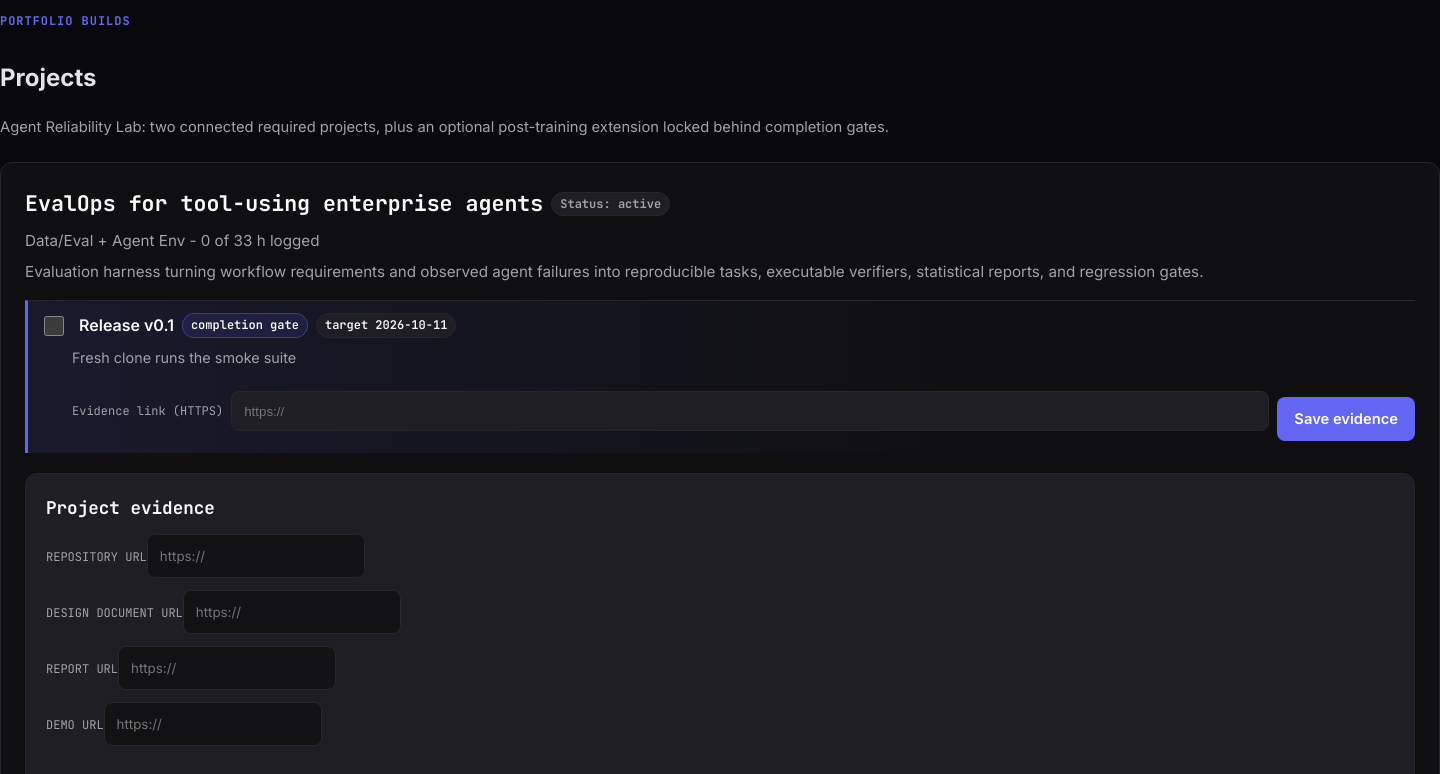
Test case: ProjectsView › surfaces save failures instead of failing silently
Type "https://github.com/example/repo" into the field labelled "Repository URL" at x=256, y=556, box [147,534,365,578]
(page scrolled)
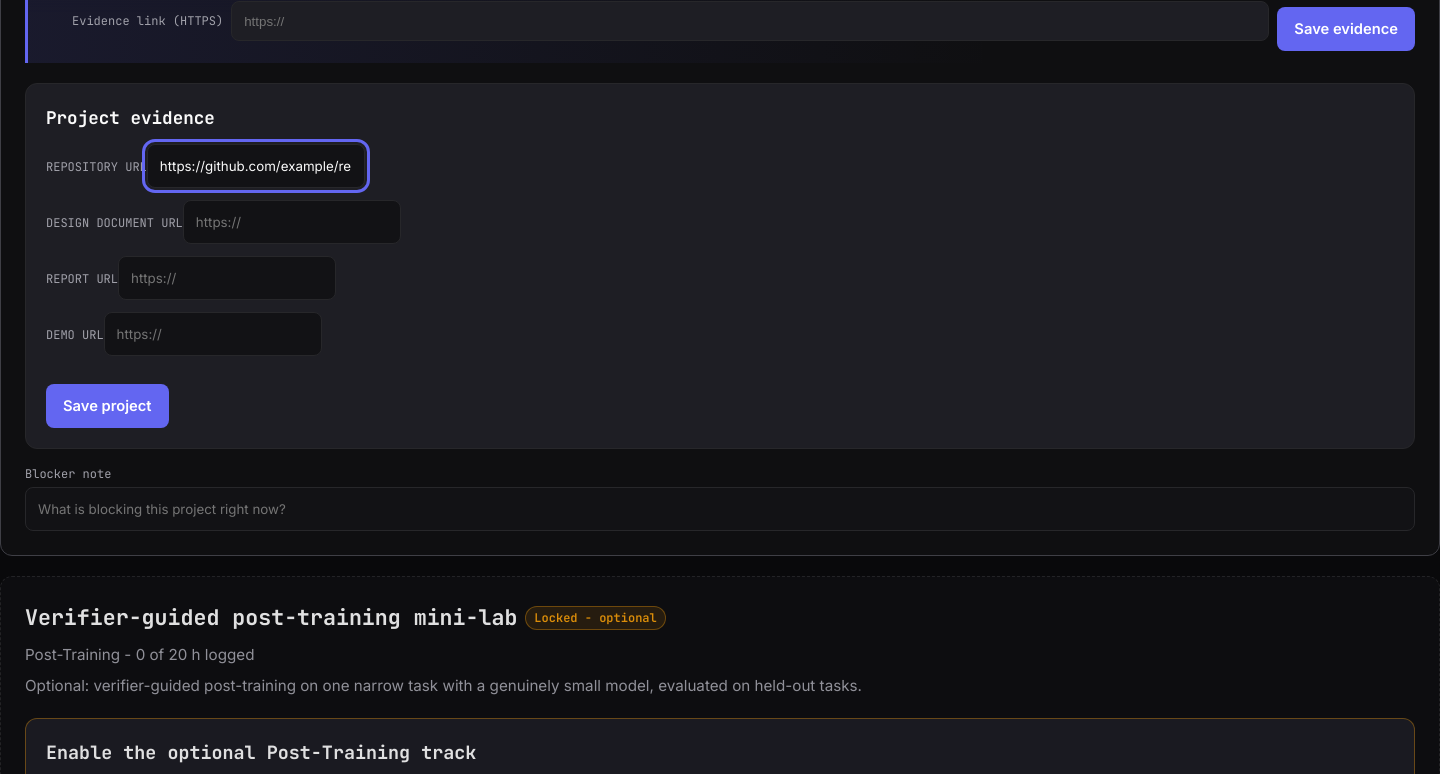
Click the button "Save project" at x=107, y=406, box [46,384,169,428]
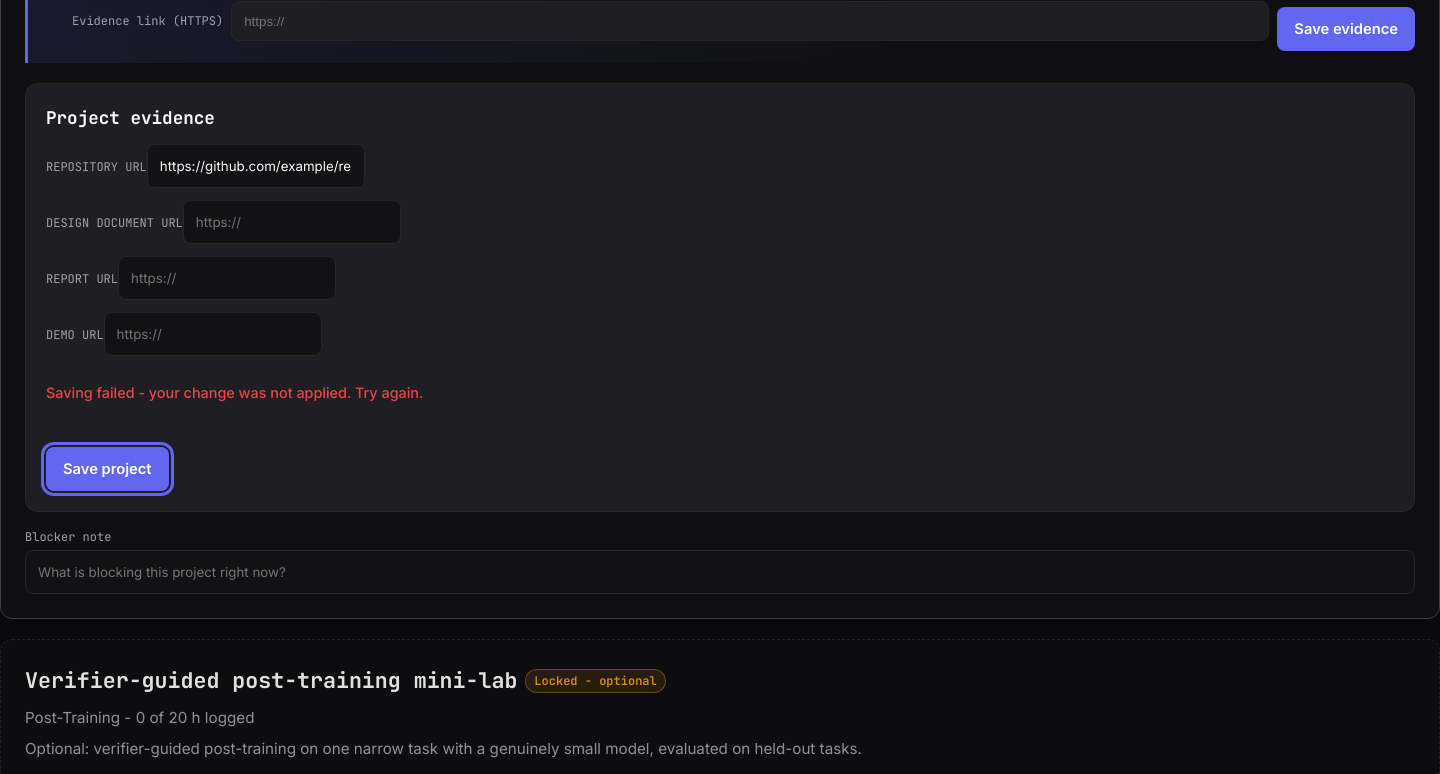
Now the text "Saving failed - your change was not applied. Try again." is shown, box [46,384,423,401]
